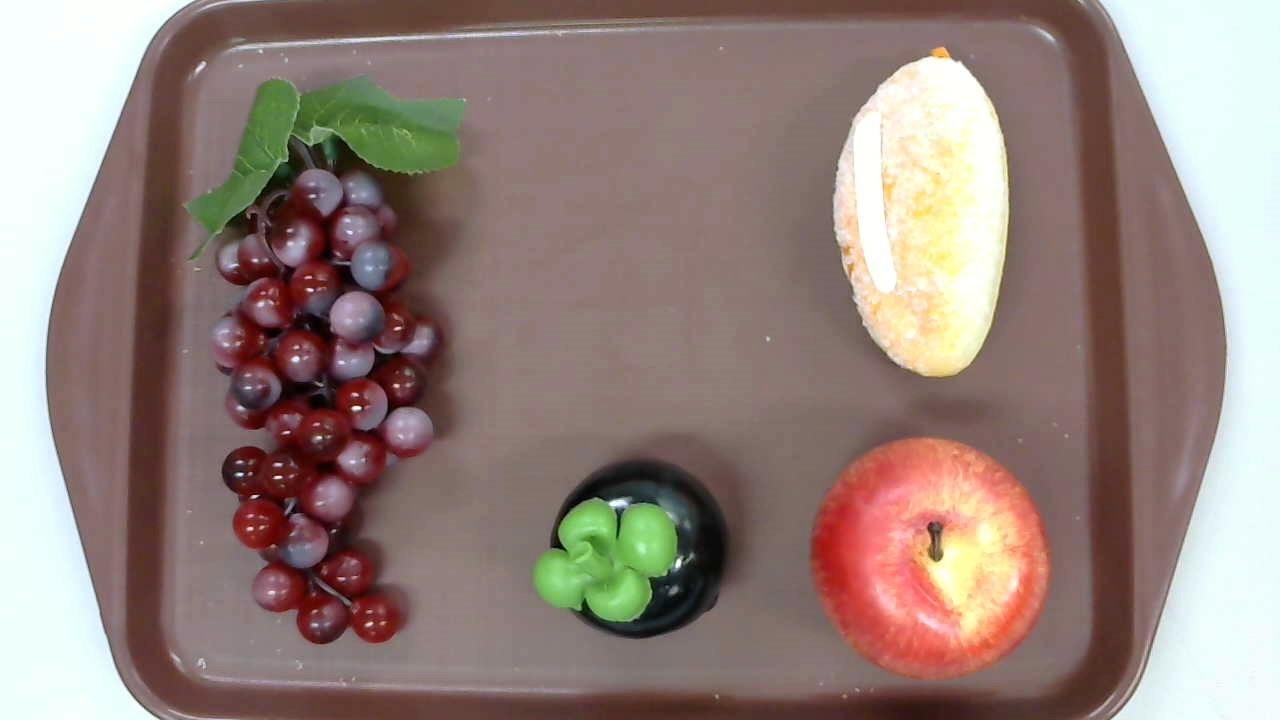coconut: (833, 47, 1010, 376)
grape: (181, 77, 466, 645)
mangosteen: (533, 459, 730, 640)
red apple: (810, 437, 1052, 681)
